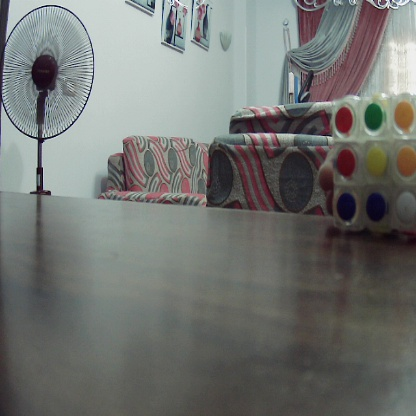Rubix Cube: (330, 100, 416, 235)
